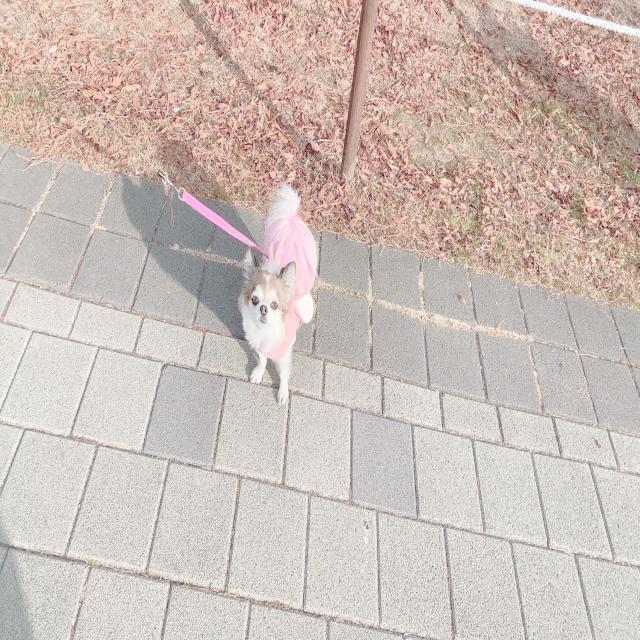Dog: (238, 182, 322, 408)
